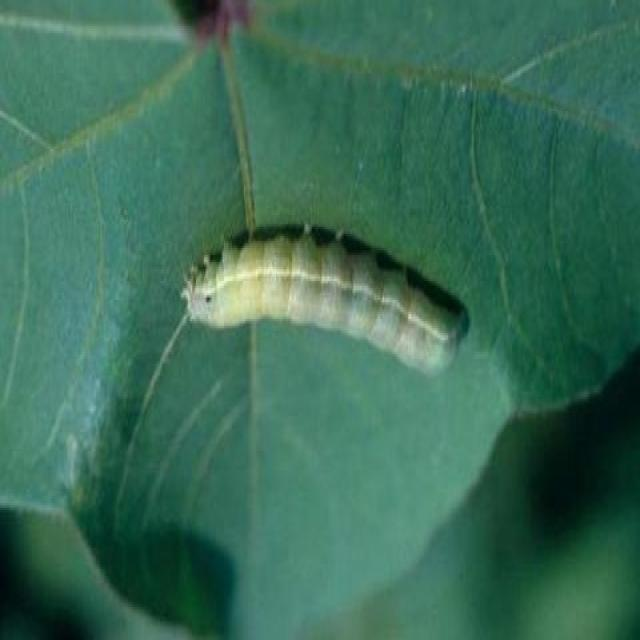army worm: (177, 223, 470, 388)
